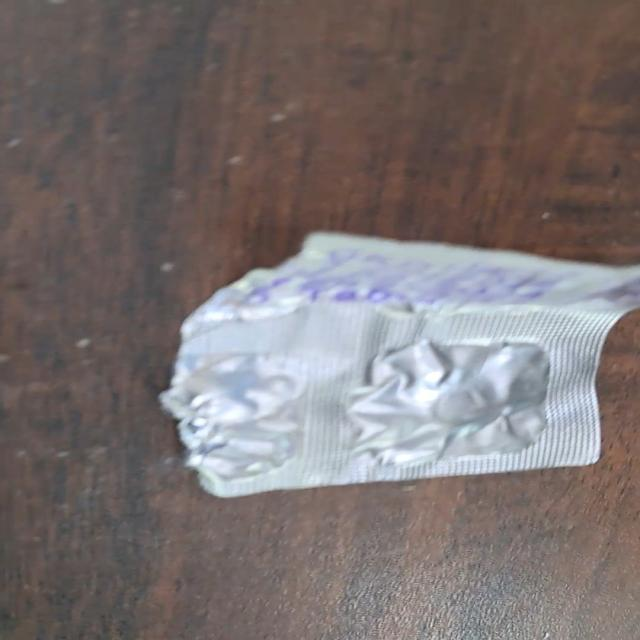Anorganik: (154, 223, 640, 505)
